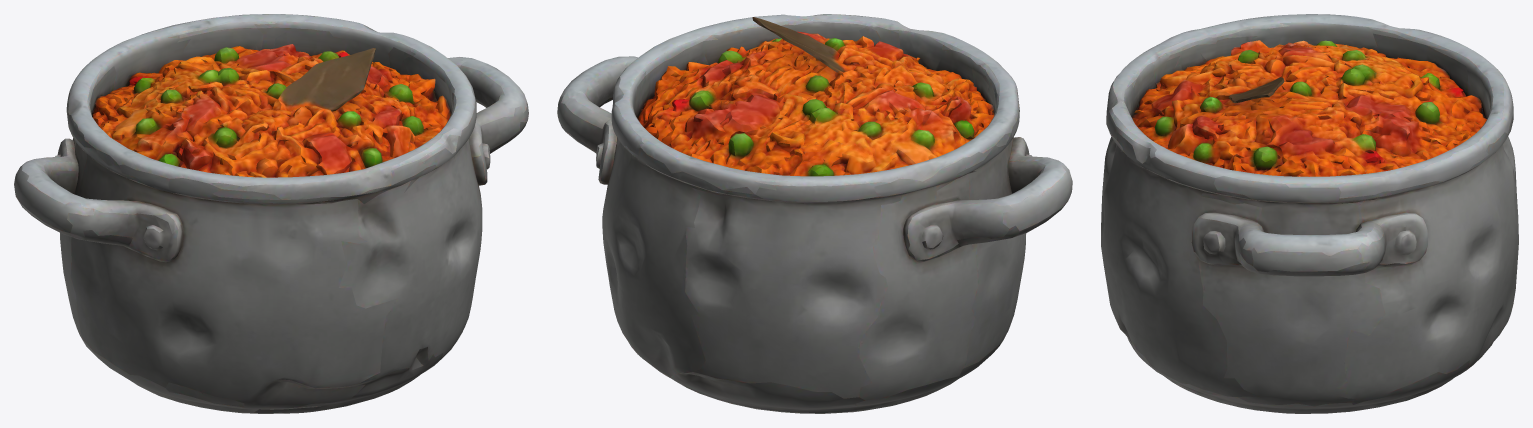
The model's file is jollof_pot.glb.
3 views of the same model, side by side, from view 1: azimuth 30°, elevation 25°; view 2: azimuth 150°, elevation 25°; view 3: azimuth 270°, elevation 25° (orthographic).
Parts seen in each view (by area): view 1: geometry_0; view 2: geometry_0; view 3: geometry_0.
Boxes of the visible parts, x1,y1,x2,y2 form: geometry_0: [14, 14, 528, 413]; geometry_0: [557, 14, 1072, 413]; geometry_0: [1101, 14, 1518, 413].
Bounding box in the file's own units: 0.28 × 0.1648 × 0.2125.
1 material, 1 textured.
